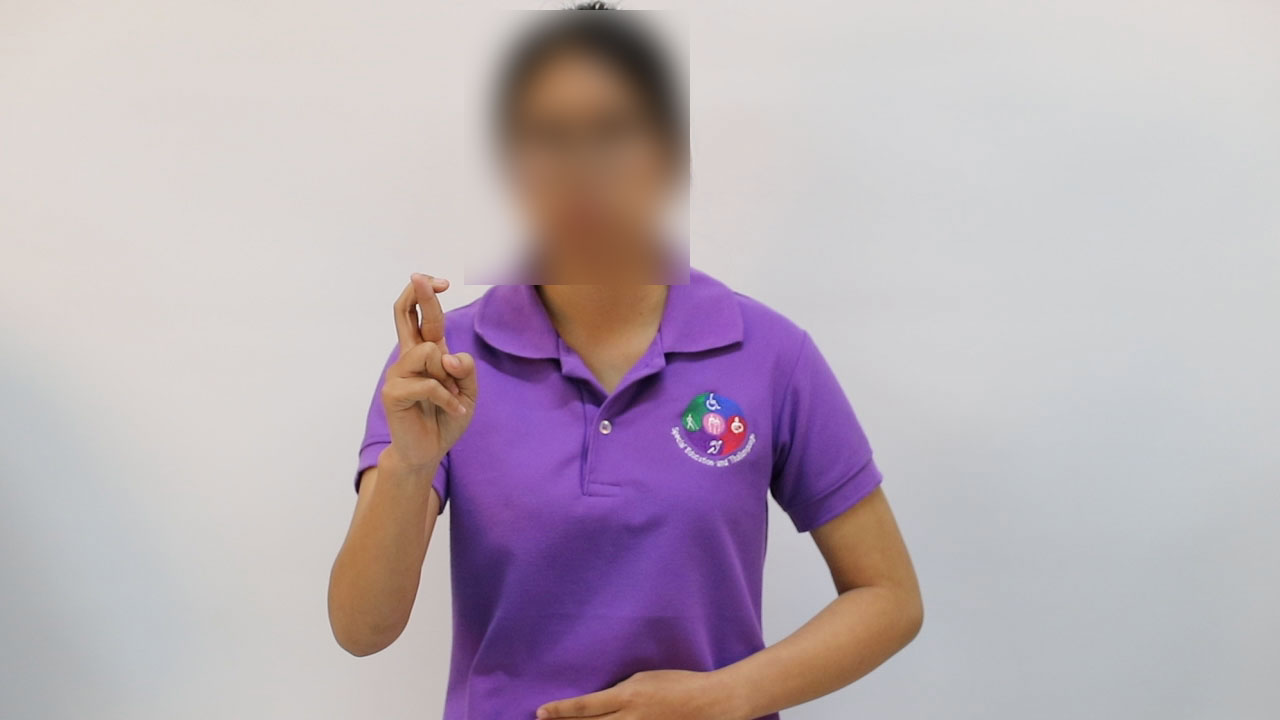rao: (362, 268, 486, 469)
